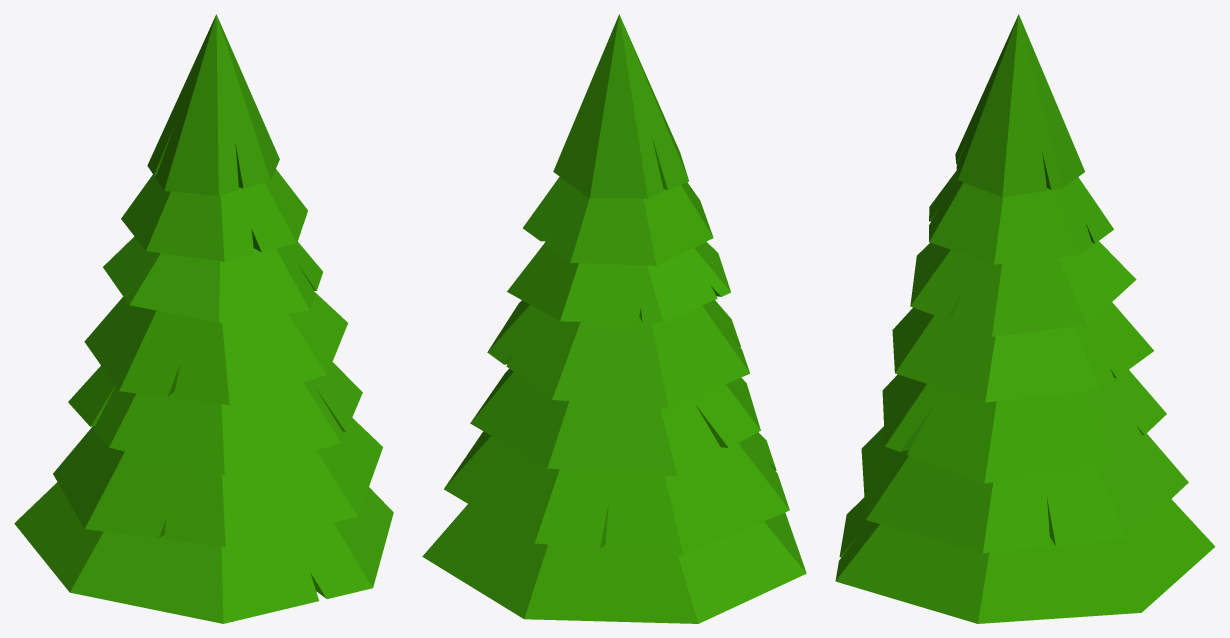
The model's file is Tree_Pine_Crown.fbx.
3 renders of one model, left to right at view 1: azimuth 30°, elevation 25°; view 2: azimuth 150°, elevation 25°; view 3: azimuth 270°, elevation 25°, orthographic.
Visible parts, largest first — view 1: Tree_Pine_Crown; view 2: Tree_Pine_Crown; view 3: Tree_Pine_Crown.
Part boxes in pixels (x1,y1,x2,y2): Tree_Pine_Crown: (14,14,393,623); Tree_Pine_Crown: (422,14,806,623); Tree_Pine_Crown: (835,14,1215,623).
Size of the model in its own units: 320 by 524 by 320.
